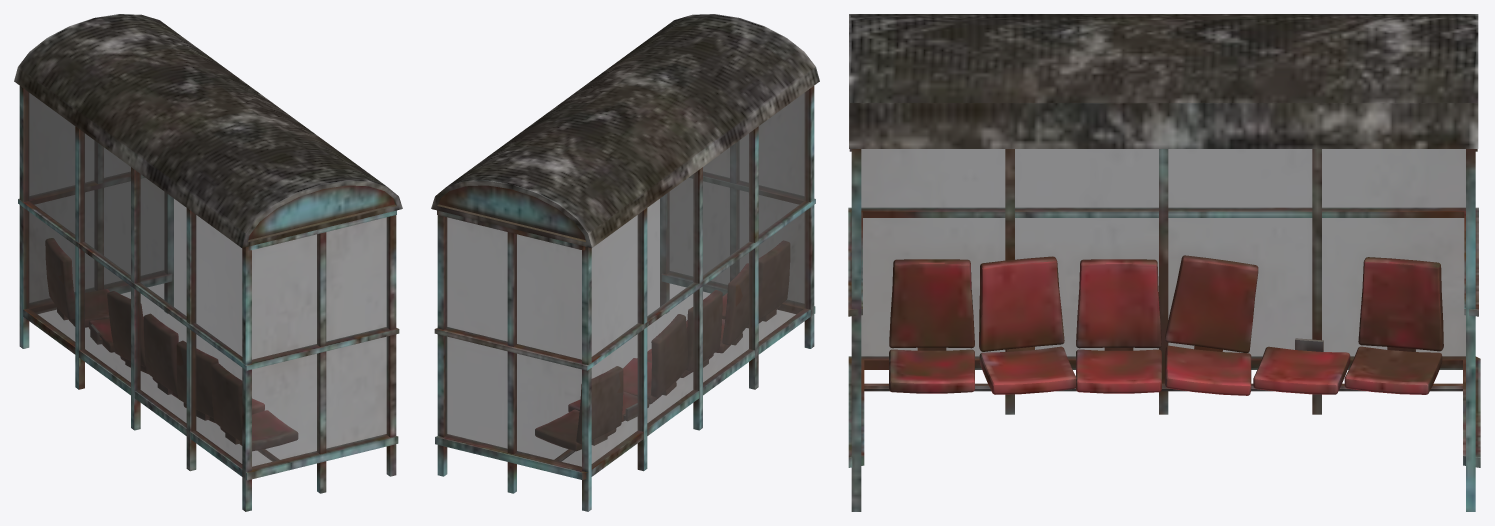
The model's file is old_soviet_bus_stop.glb.
3 views of the same model, side by side, from view 1: azimuth 30°, elevation 25°; view 2: azimuth 150°, elevation 25°; view 3: azimuth 270°, elevation 25° (orthographic). The views are drawn at different scales.
Parts seen in each view (by area): view 1: BusStop_low; view 2: BusStop_low; view 3: BusStop_low.
Boxes of the visible parts, x1=… form: BusStop_low: x1=14, y1=14, x2=402, y2=511; BusStop_low: x1=431, y1=14, x2=819, y2=511; BusStop_low: x1=848, y1=14, x2=1480, y2=511.
Size of the model in its own units: 100 by 184 by 247.
Materials: 5 (5 with a texture image).
